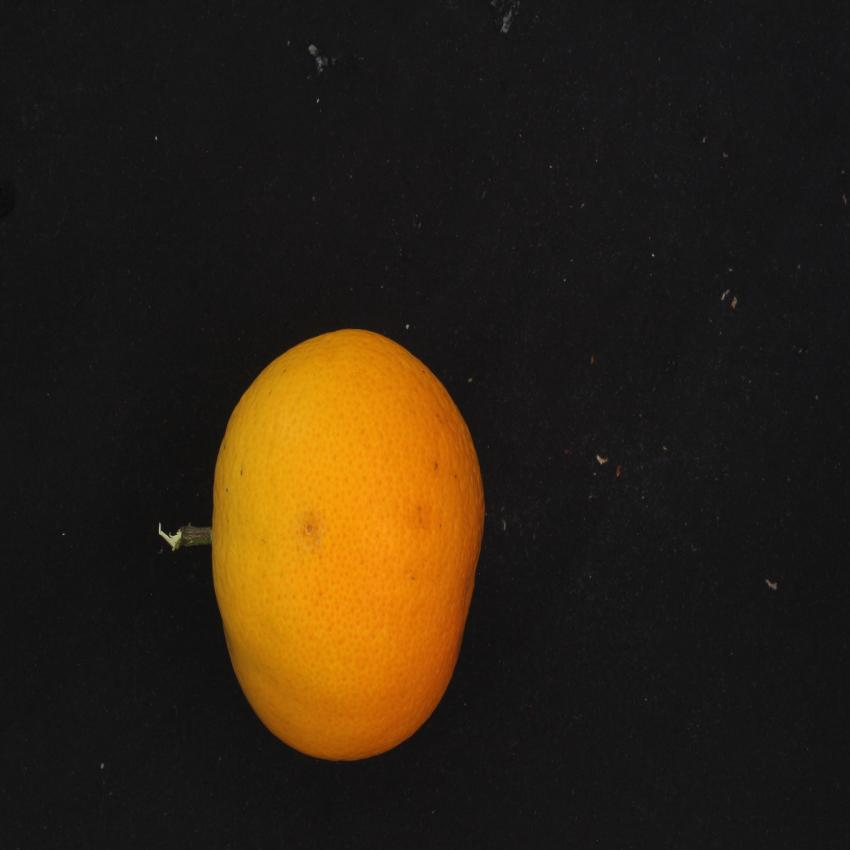Buen estado: (203, 309, 491, 776)
